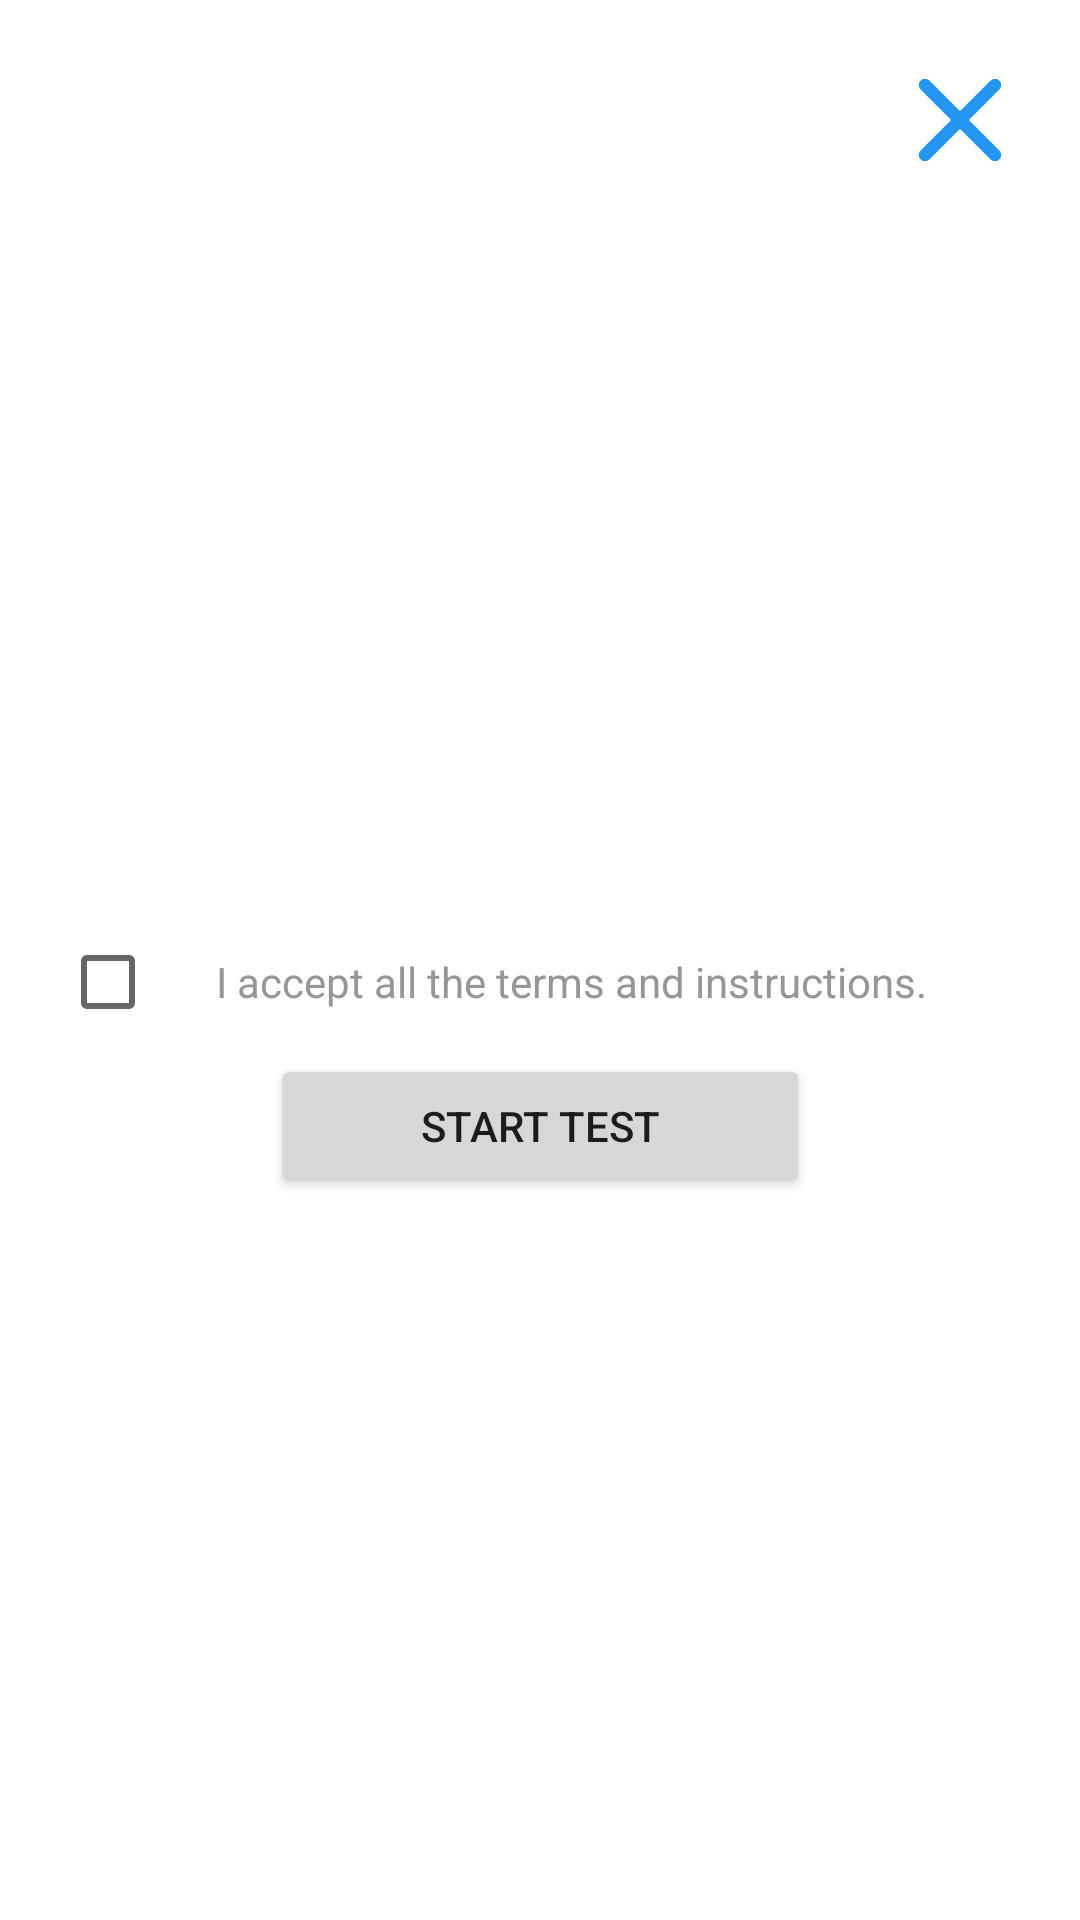

Icons on this 1080x1920 Android screen, each with the point to tap as (x=x, y=y):
close: (x=960, y=120)
